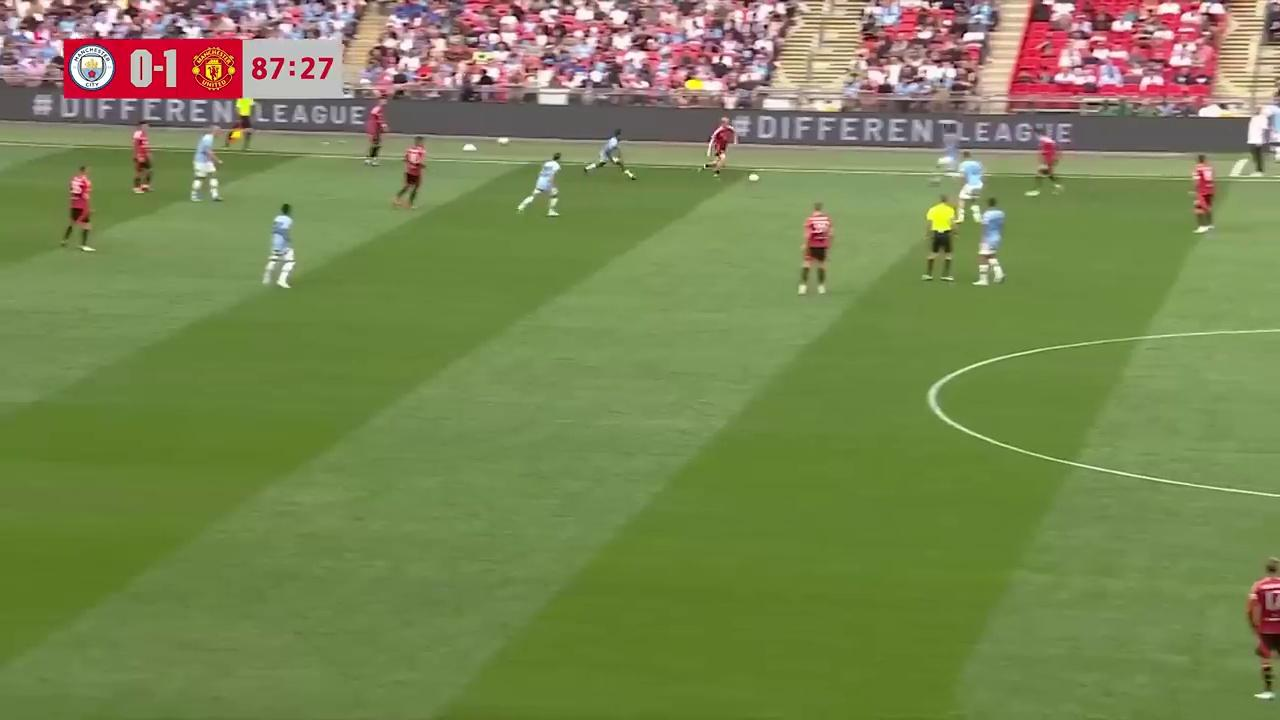ball: (744, 168, 761, 184), (461, 139, 478, 154)
player: (1245, 557, 1280, 700), (936, 143, 984, 218), (798, 201, 833, 296), (972, 198, 1007, 286), (61, 164, 95, 252), (262, 202, 296, 289), (516, 154, 561, 217), (948, 155, 986, 226), (584, 128, 635, 178), (392, 138, 427, 210), (190, 129, 223, 202), (1189, 154, 1216, 234), (1030, 130, 1062, 192), (701, 120, 733, 178), (130, 122, 154, 193), (362, 105, 386, 166)
referee: (921, 194, 959, 282), (225, 92, 253, 149), (362, 106, 386, 166)
